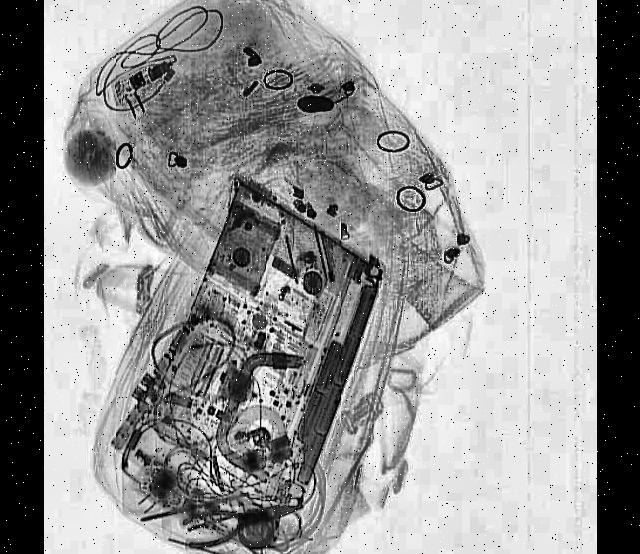Pliers: (181, 487, 306, 554)
